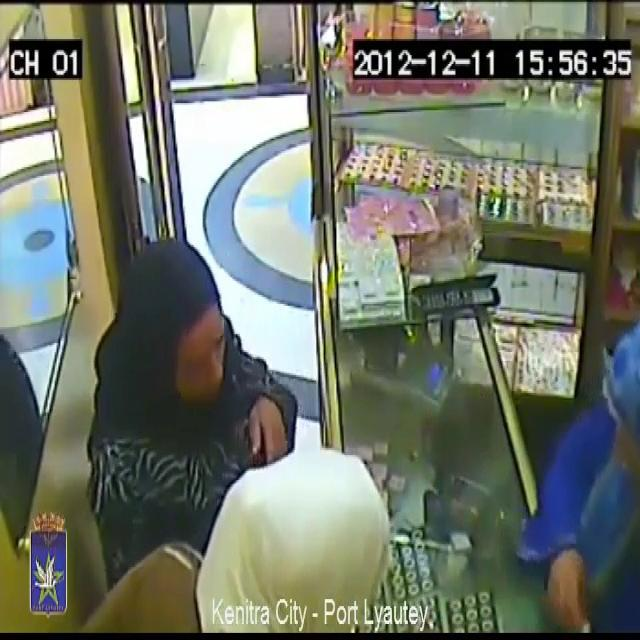normal: (112, 412, 408, 640), (479, 283, 640, 640), (91, 210, 245, 438)
